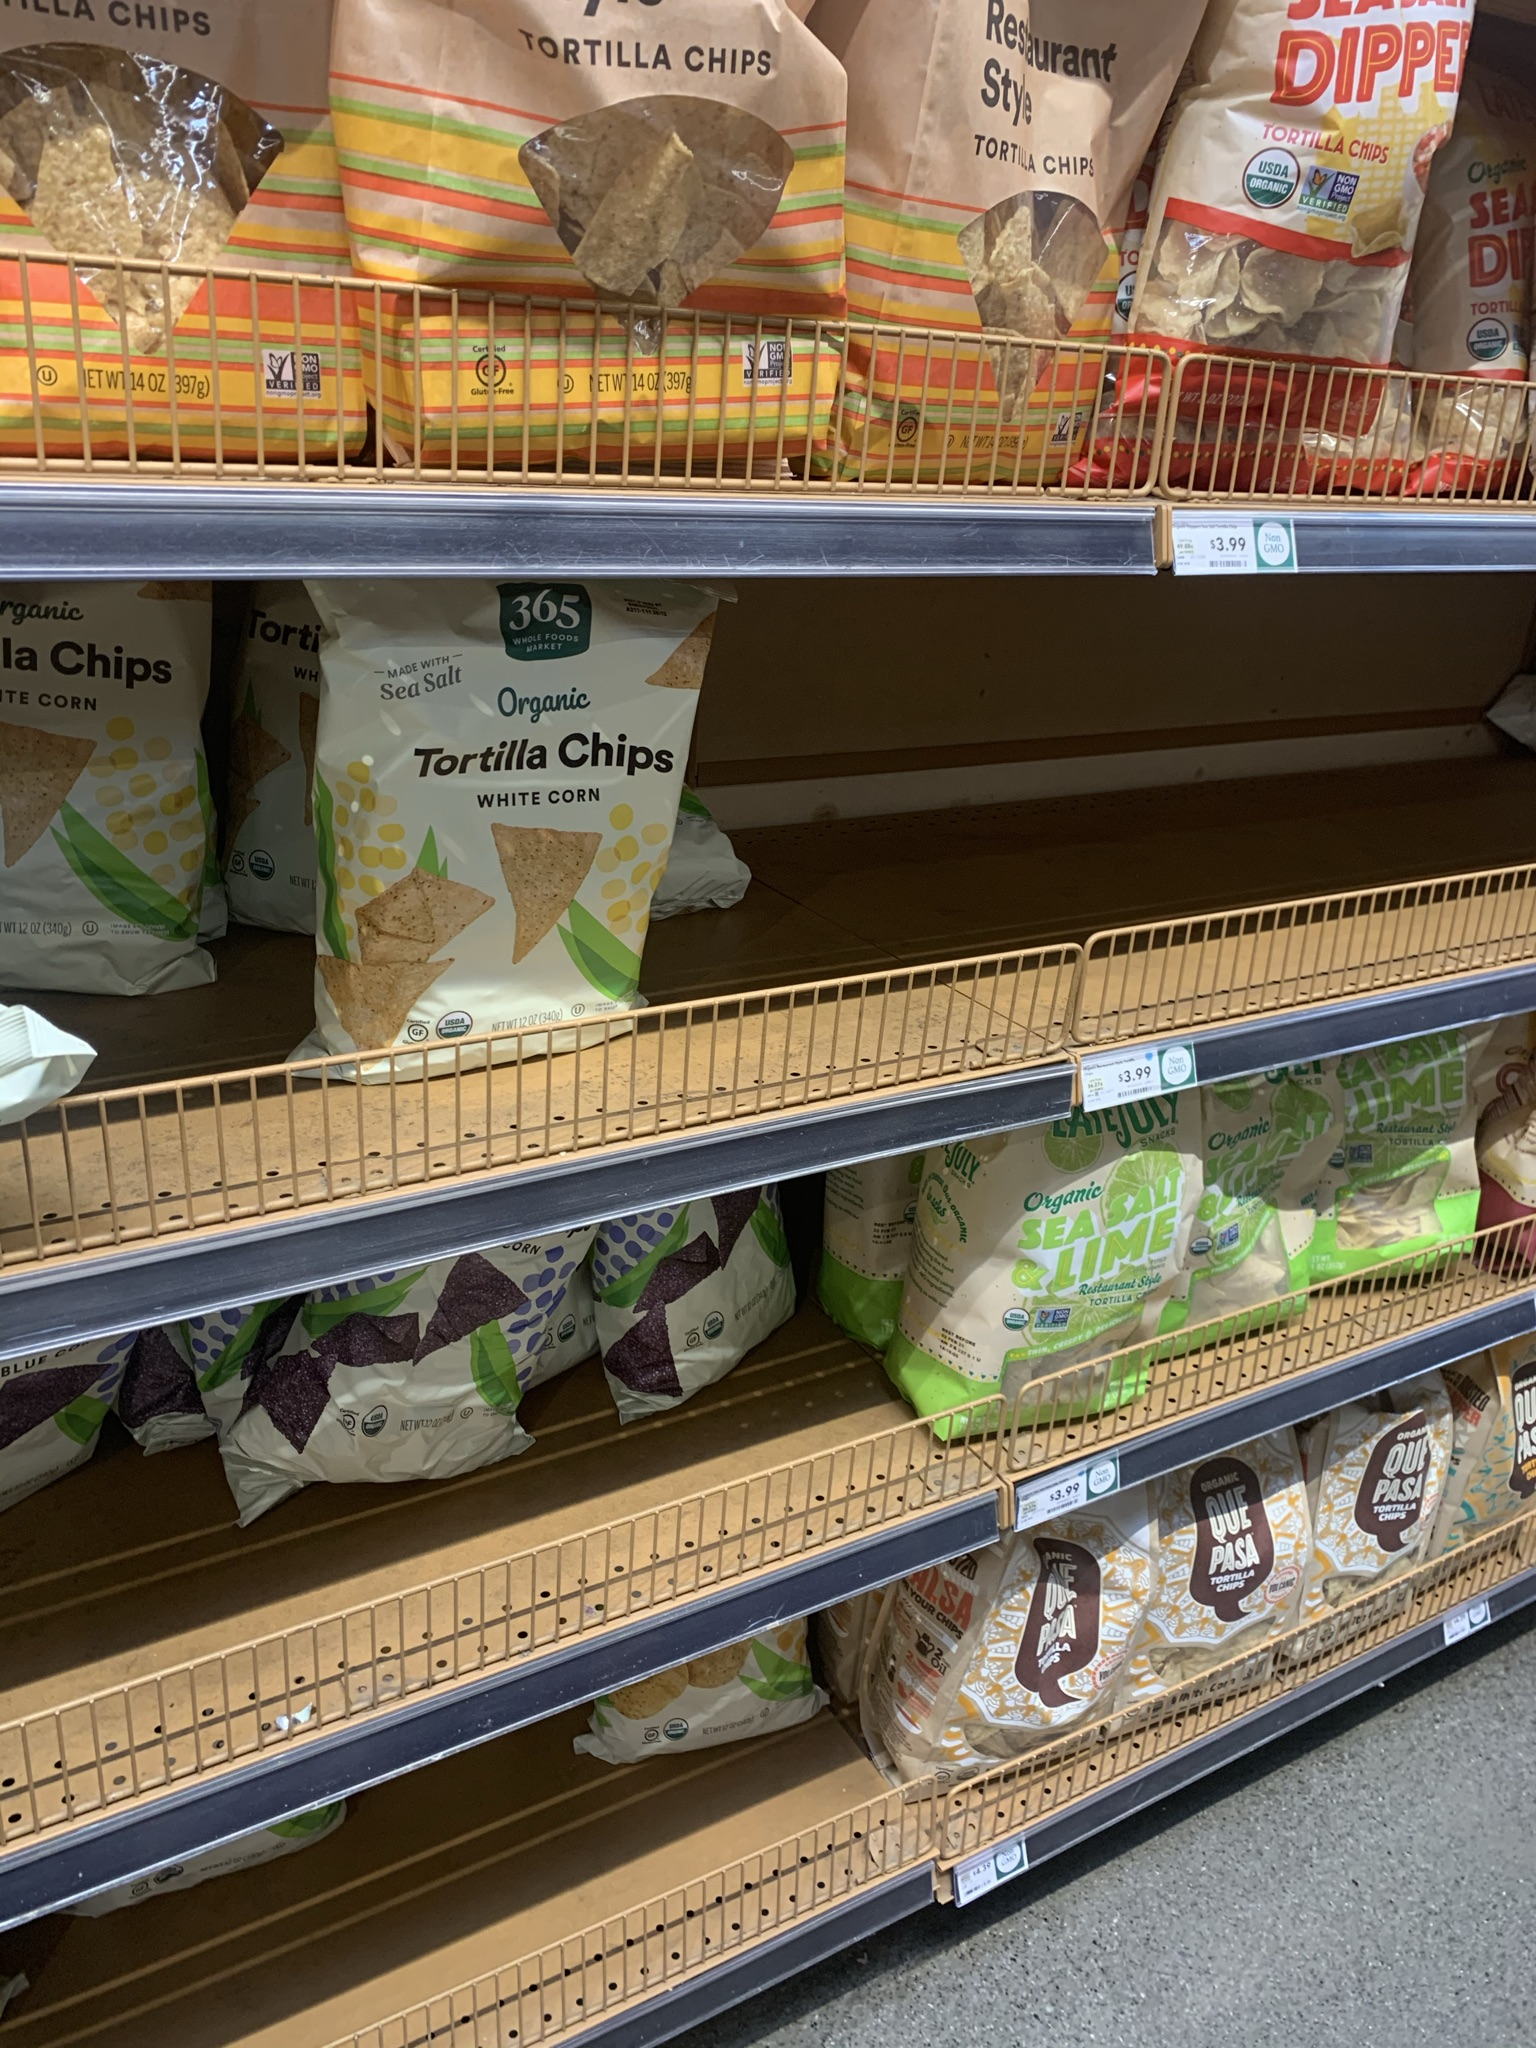organic chips: (963, 1150, 1176, 1434), (1208, 1084, 1339, 1326), (1367, 1056, 1480, 1261)
tortilla chips: (337, 2, 857, 452), (18, 3, 352, 416), (337, 585, 652, 1014), (2, 619, 215, 989)
